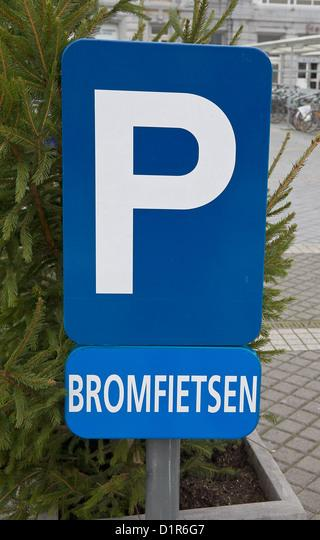Parking Lot Cars: (70, 59, 264, 335)
